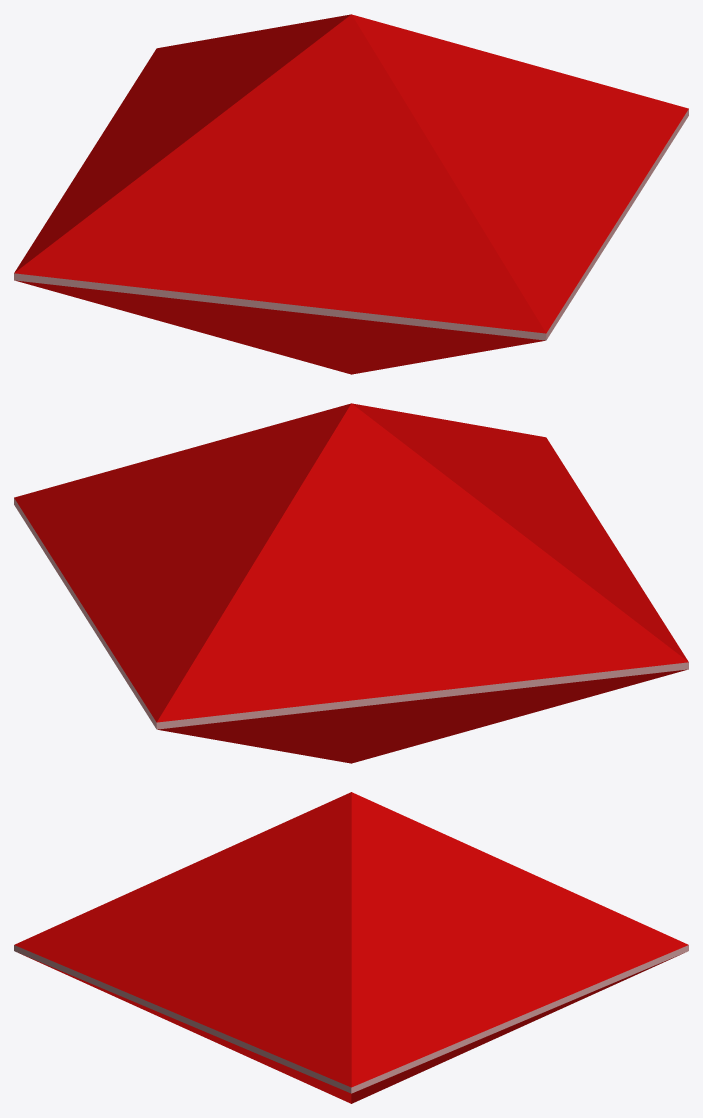
File: EnemyDefault.fbx
3 renders of one model, top to bottom at view 1: azimuth 30°, elevation 25°; view 2: azimuth 150°, elevation 25°; view 3: azimuth 270°, elevation 25°, orthographic. The views are drawn at different scales.
Visible parts, largest first — view 1: pCone3; view 2: pCone3; view 3: pCone3.
Part boxes in pixels (x1,y1,x2,y2): pCone3: (14, 14, 688, 374); pCone3: (14, 403, 688, 763); pCone3: (14, 792, 688, 1103).
Bounding box in the file's own units: 2 × 1.02 × 2.
